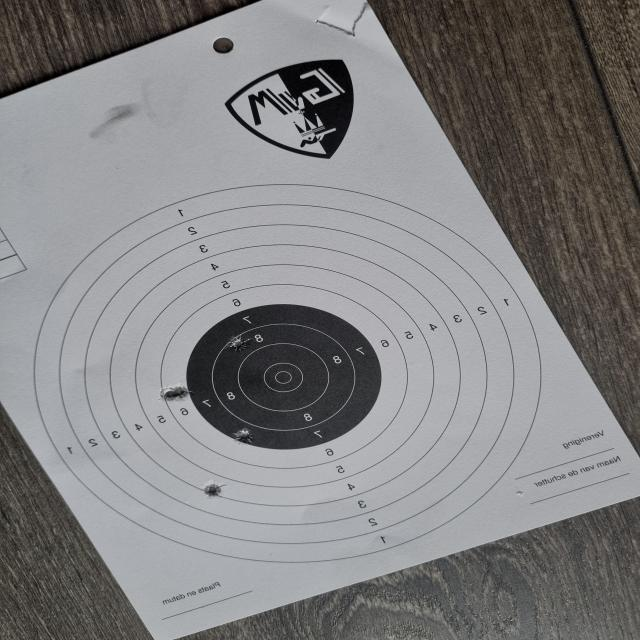4: (198, 482, 223, 497)
6: (159, 387, 175, 402)
7: (233, 428, 252, 445), (175, 385, 191, 401)
8: (228, 334, 249, 352)
Target: (34, 185, 542, 563)
black_contour: (187, 304, 382, 450)
